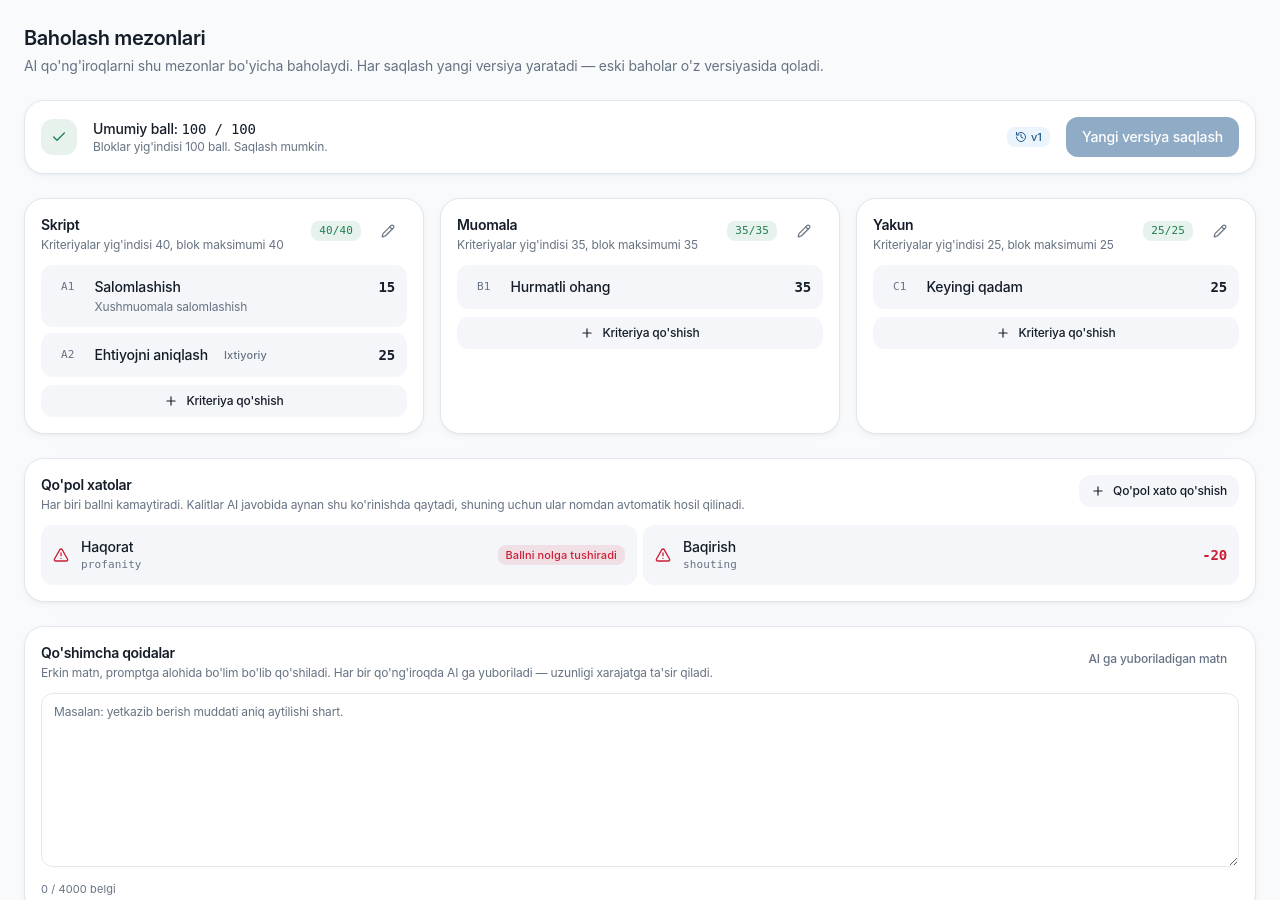
Test: editing › will not let a new red flag take a key another one already has
Click the button "Qo'pol xato qo'shish": (1159, 491) [1079,475,1239,507]
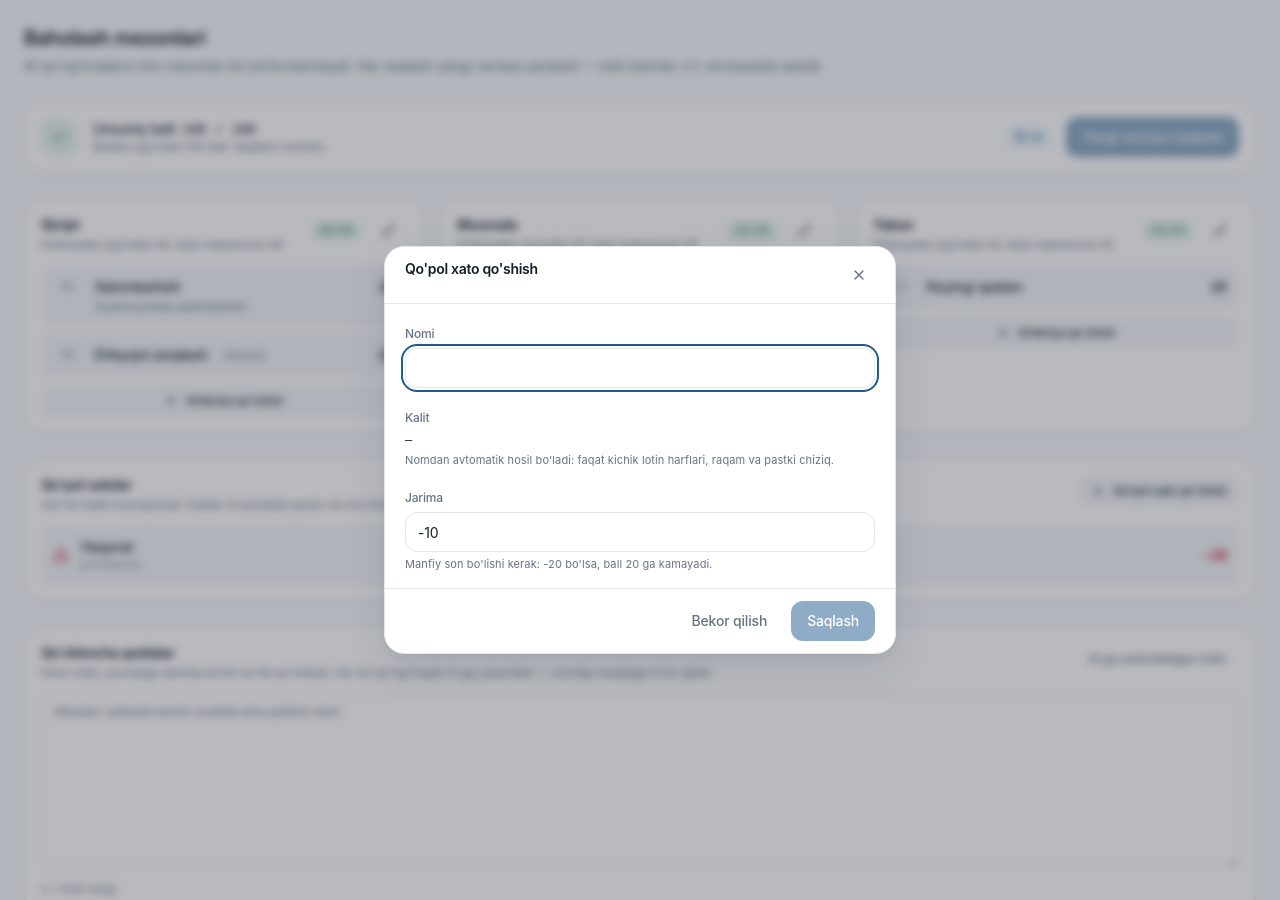
In the field labelled "Nomi": (640, 368) [405,348,875,388], type "Shouting"
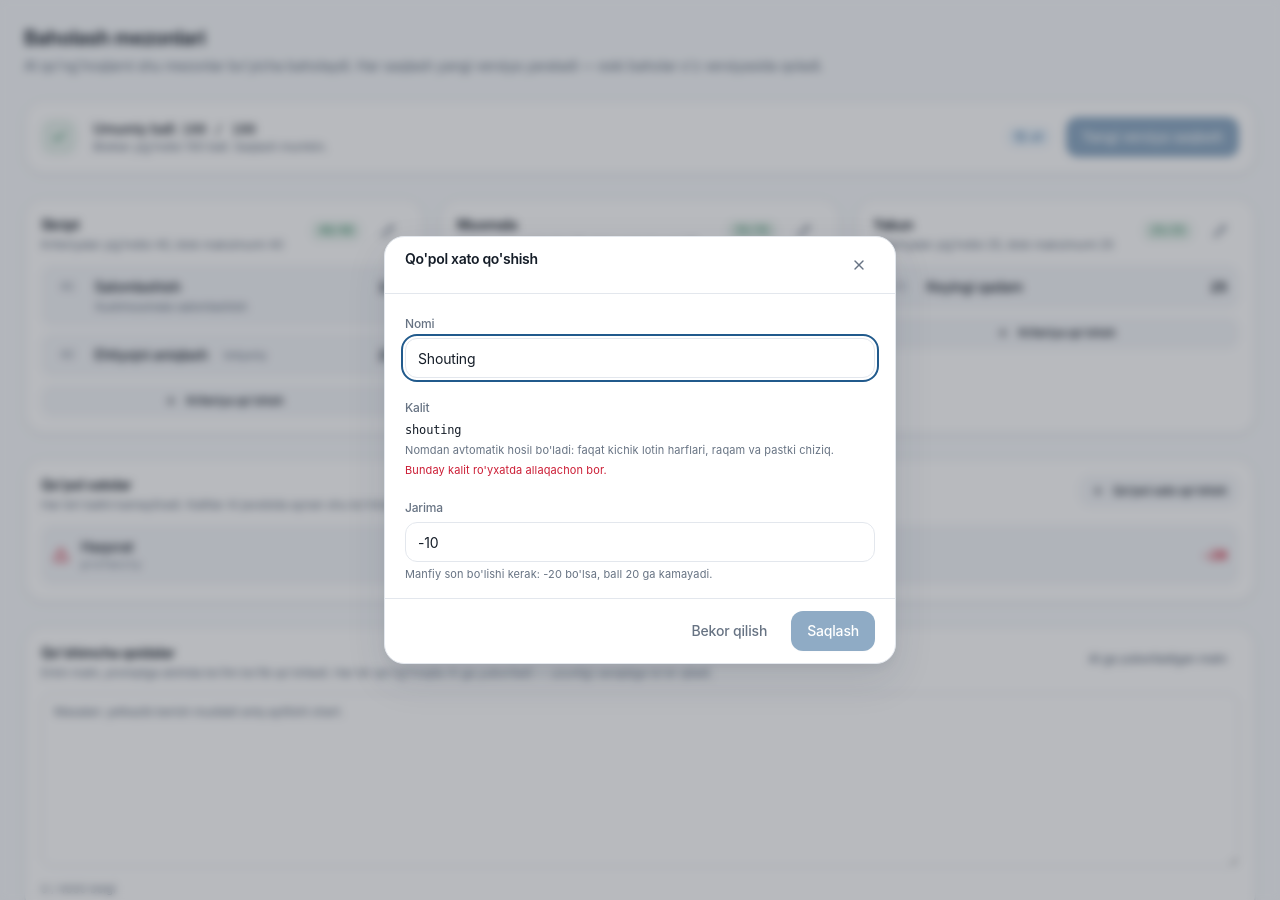
Expected: the button "Saqlash" is disabled, [791,611,875,651]
Expected: the text "Bunday kalit ro'yxatda allaqachon bor." is shown, [405,463,607,477]
